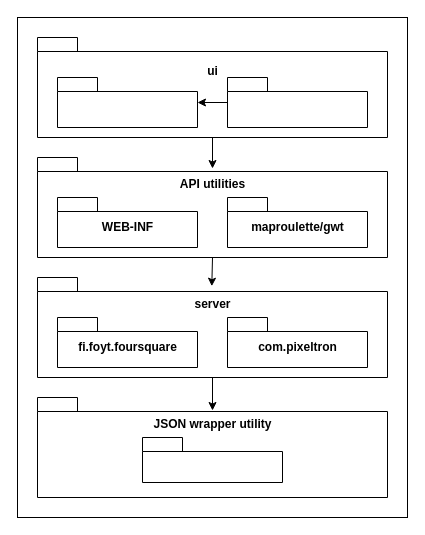
This 425x535 diagram has some shape labels left out. Each missing label, with the centre of its shape:
assets: the point at 127,102
org.json: the point at 212,459
pages: the point at 297,102
